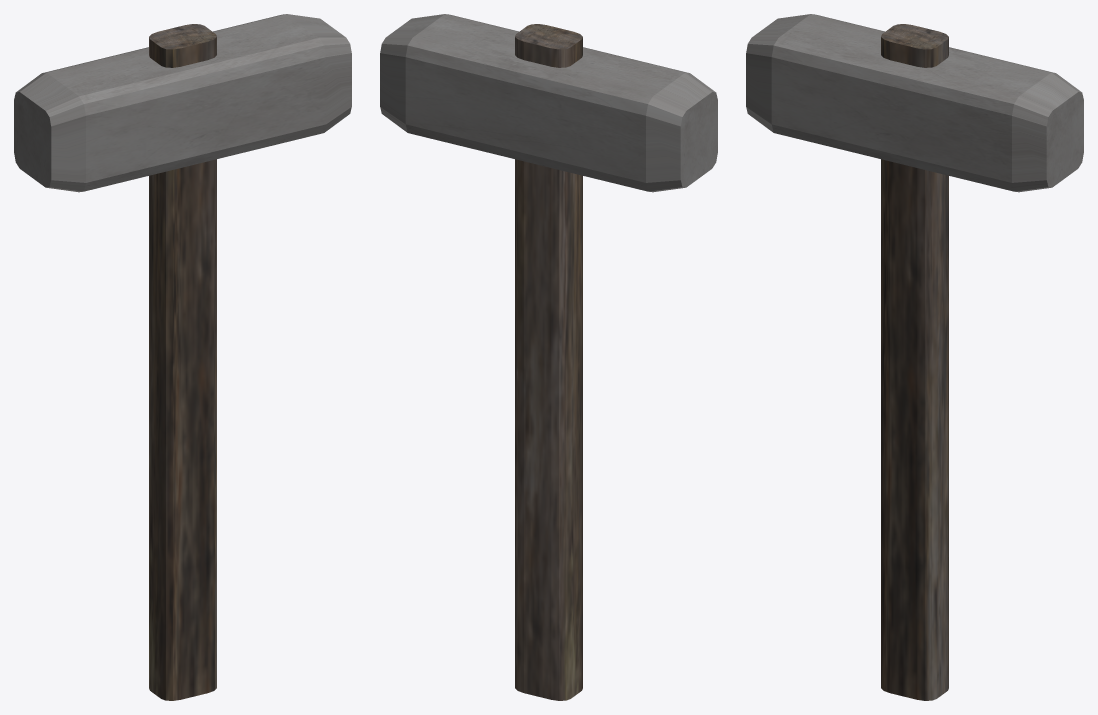
Rendered from DZ_23_Hamer.fbx.
3 views of the same model, side by side, from view 1: azimuth 30°, elevation 25°; view 2: azimuth 150°, elevation 25°; view 3: azimuth 330°, elevation 25° (orthographic).
Parts seen in each view (by area): view 1: Cube, Hammer; view 2: Cube, Hammer; view 3: Cube, Hammer.
Boxes of the visible parts, x1,y1,x2,y2 form: Cube: [14, 14, 351, 192]; Hammer: [149, 24, 216, 700]; Cube: [380, 14, 717, 192]; Hammer: [515, 24, 582, 700]; Cube: [746, 14, 1083, 192]; Hammer: [881, 24, 948, 700].
Size of the model in its own units: 199 by 413 by 53.15.
